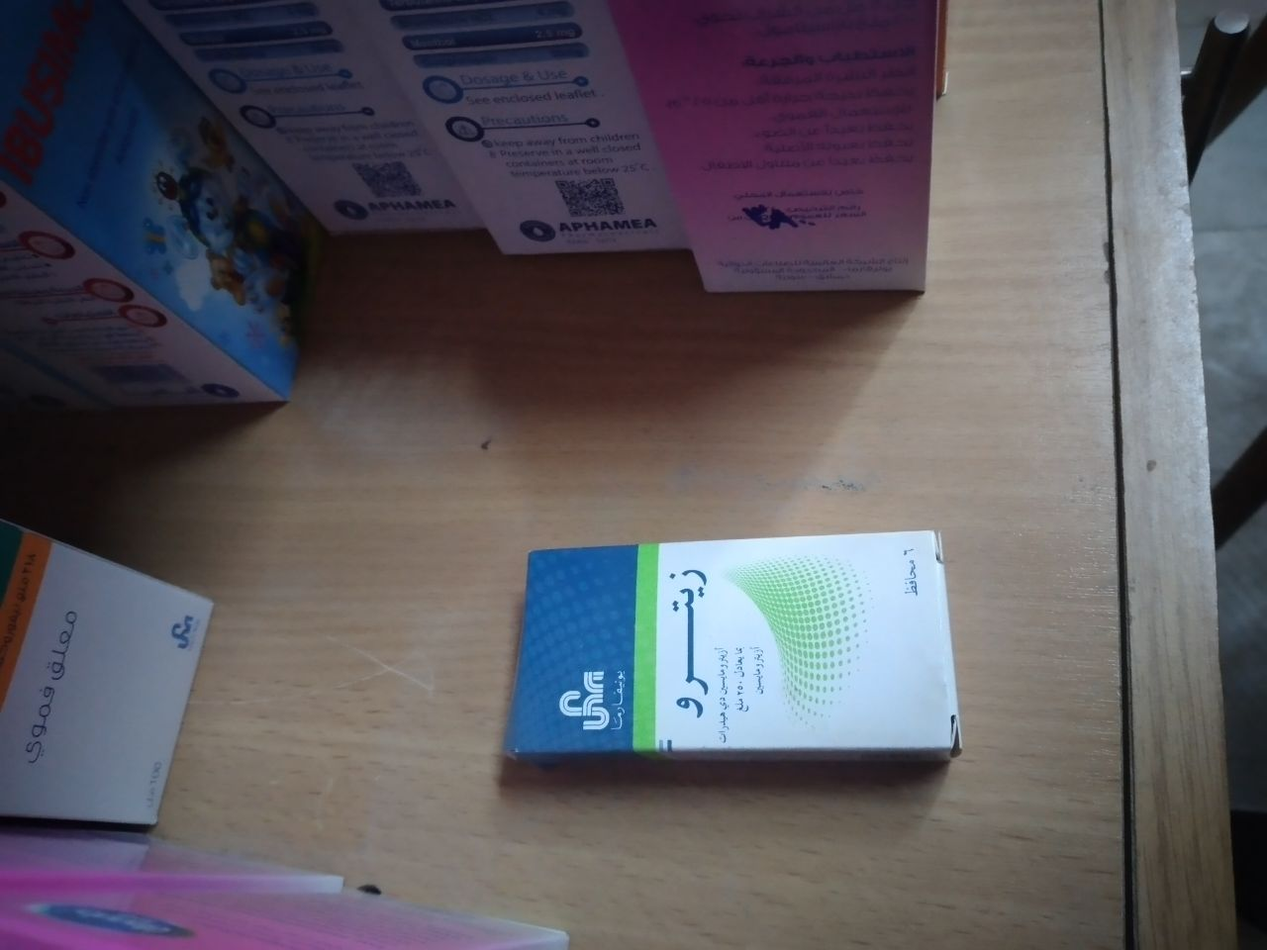Medicine: (483, 510, 975, 811), (0, 0, 329, 409), (596, 0, 943, 341), (134, 0, 490, 255), (0, 508, 238, 847), (398, 0, 685, 277)
